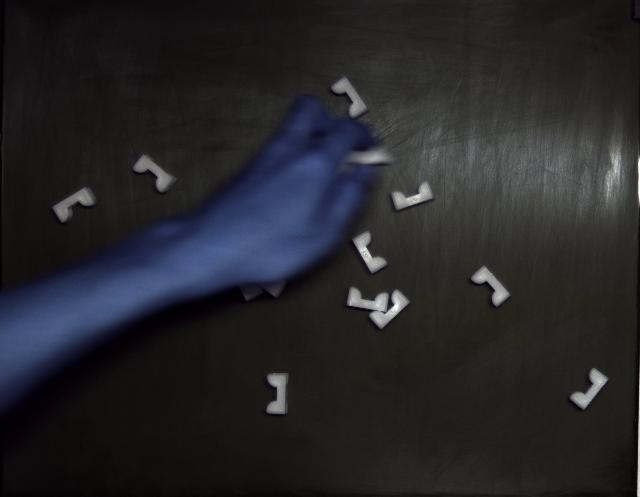third_side: (132, 154, 176, 194), (369, 290, 410, 330), (471, 266, 510, 308), (570, 369, 609, 410), (331, 76, 368, 119), (52, 188, 98, 222), (352, 231, 388, 274), (391, 181, 434, 211), (346, 288, 389, 312), (266, 374, 289, 415)
